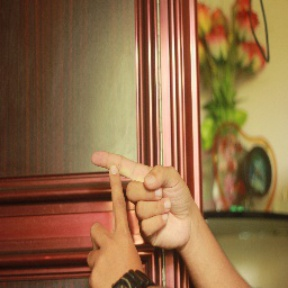T: (75, 144, 159, 263)
